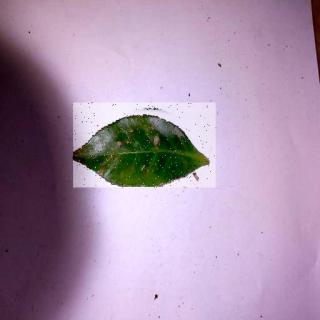Anthracnose: (75, 104, 218, 189)
